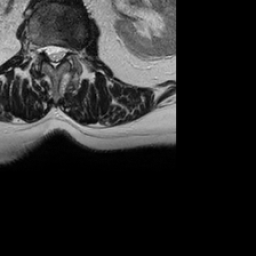CCS_normal: (51, 37, 58, 74)
LFS_severe_stenosis: (68, 38, 75, 62)
LLS_normal: (59, 38, 67, 65)
RFS_normal: (35, 37, 44, 61)
RLS_normal: (43, 37, 51, 61)
